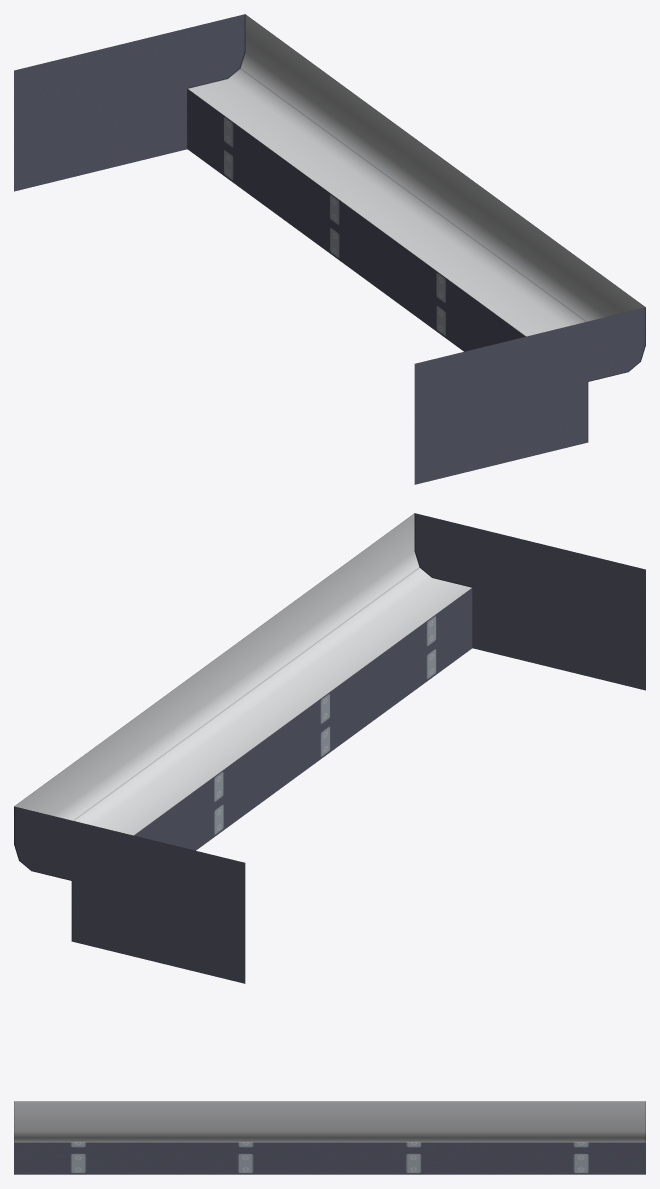
File: Floor_Border_Line_01.FBX
3 views of the same model, one above another, from view 1: azimuth 30°, elevation 25°; view 2: azimuth 150°, elevation 25°; view 3: azimuth 270°, elevation 25° (orthographic). The views are drawn at different scales.
Visible parts, largest first — view 1: Floor_Border_Line_01; view 2: Floor_Border_Line_01; view 3: Floor_Border_Line_01.
Part boxes in pixels (x1,y1,x2,y2): Floor_Border_Line_01: (14,14,645,484); Floor_Border_Line_01: (14,513,645,983); Floor_Border_Line_01: (14,1101,645,1174).
Bounding box in the file's own units: 2 × 1 × 6.
2 materials, 2 textured.
